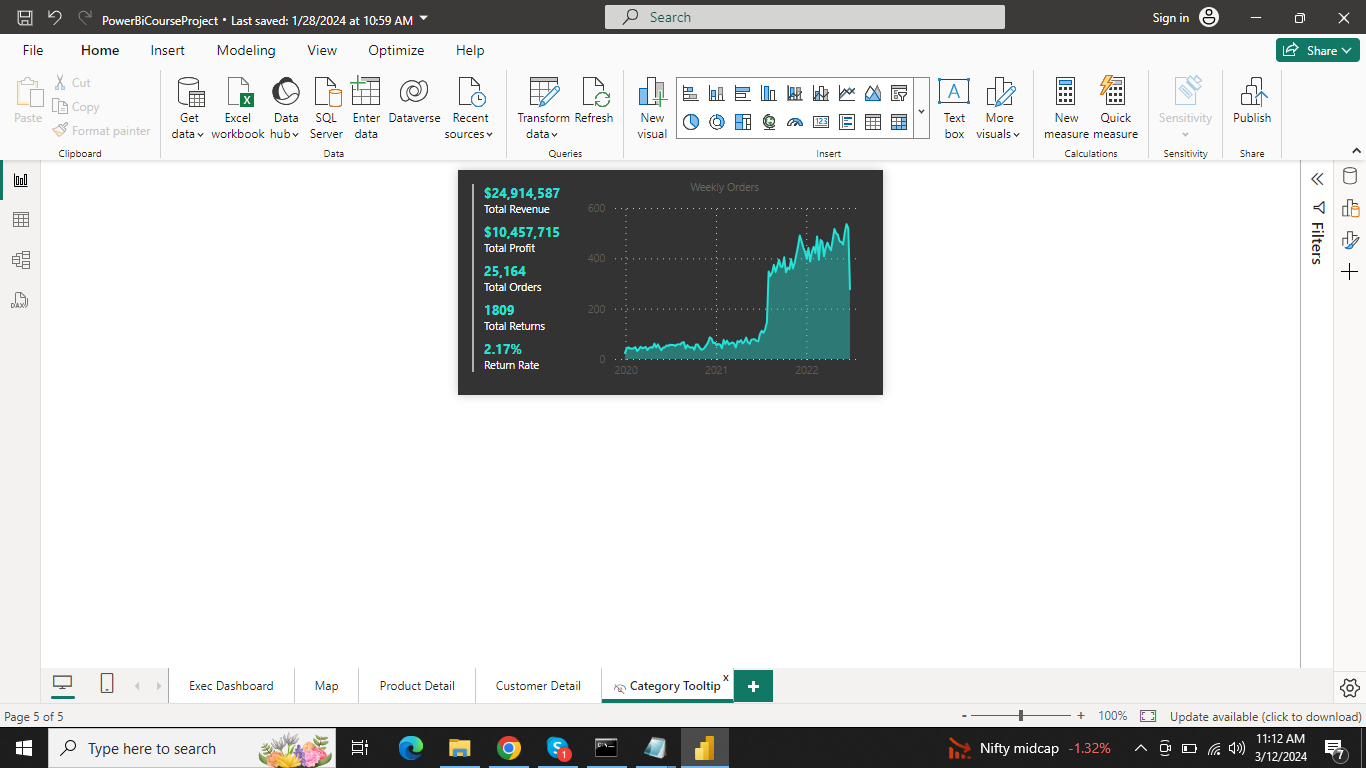

The page's visual inventory and layout, read from the dashboard file:
{"tool":"powerbi","page":{"name":"Category Tooltip","canvas":[425,225],"ordinal":4},"visuals":[{"type":"multiRowCard","fields":{"Values":["Measure Table.Total Revenue","Measure Table.Total Profit","Measure Table.Total Orders","Measure Table.Total Returns","Measure Table.Return Rate"]},"box":[9,9,102,209],"z":0},{"type":"areaChart","title":"Weekly Orders ","fields":{"Category":["Calendar Lookup.Start of Week"],"Y":["Measure Table.Total Orders"]},"box":[124,9,285,209],"z":1000}]}

Visuals, with their boxes on the page's 425x225 design canvas (x1, y1, x2, y2). These are canvas units, not pixel positions in the 1366x768 screenshot, which may show the page scaled, cropped or inside an application window:
multiRowCard - Measure Table.Total Revenue x Measure Table.Total Profit: crop(9, 9, 111, 218)
"Weekly Orders " areaChart: crop(124, 9, 409, 218)
